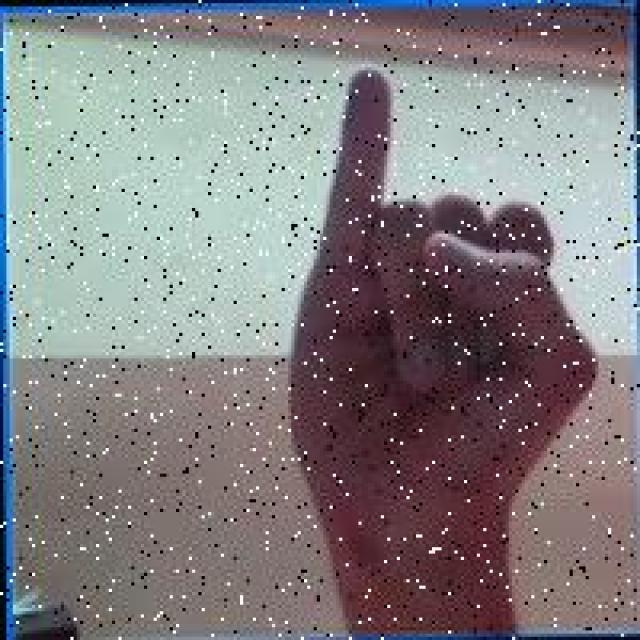I: (272, 58, 605, 576)
